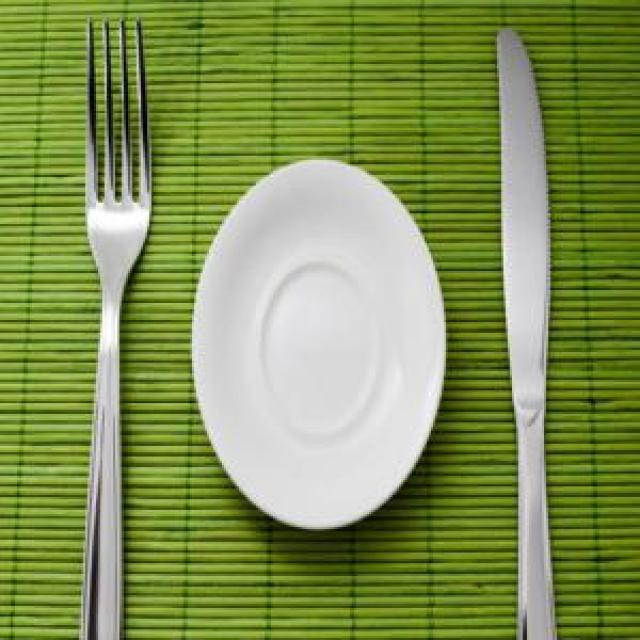knife: (491, 23, 559, 638)
